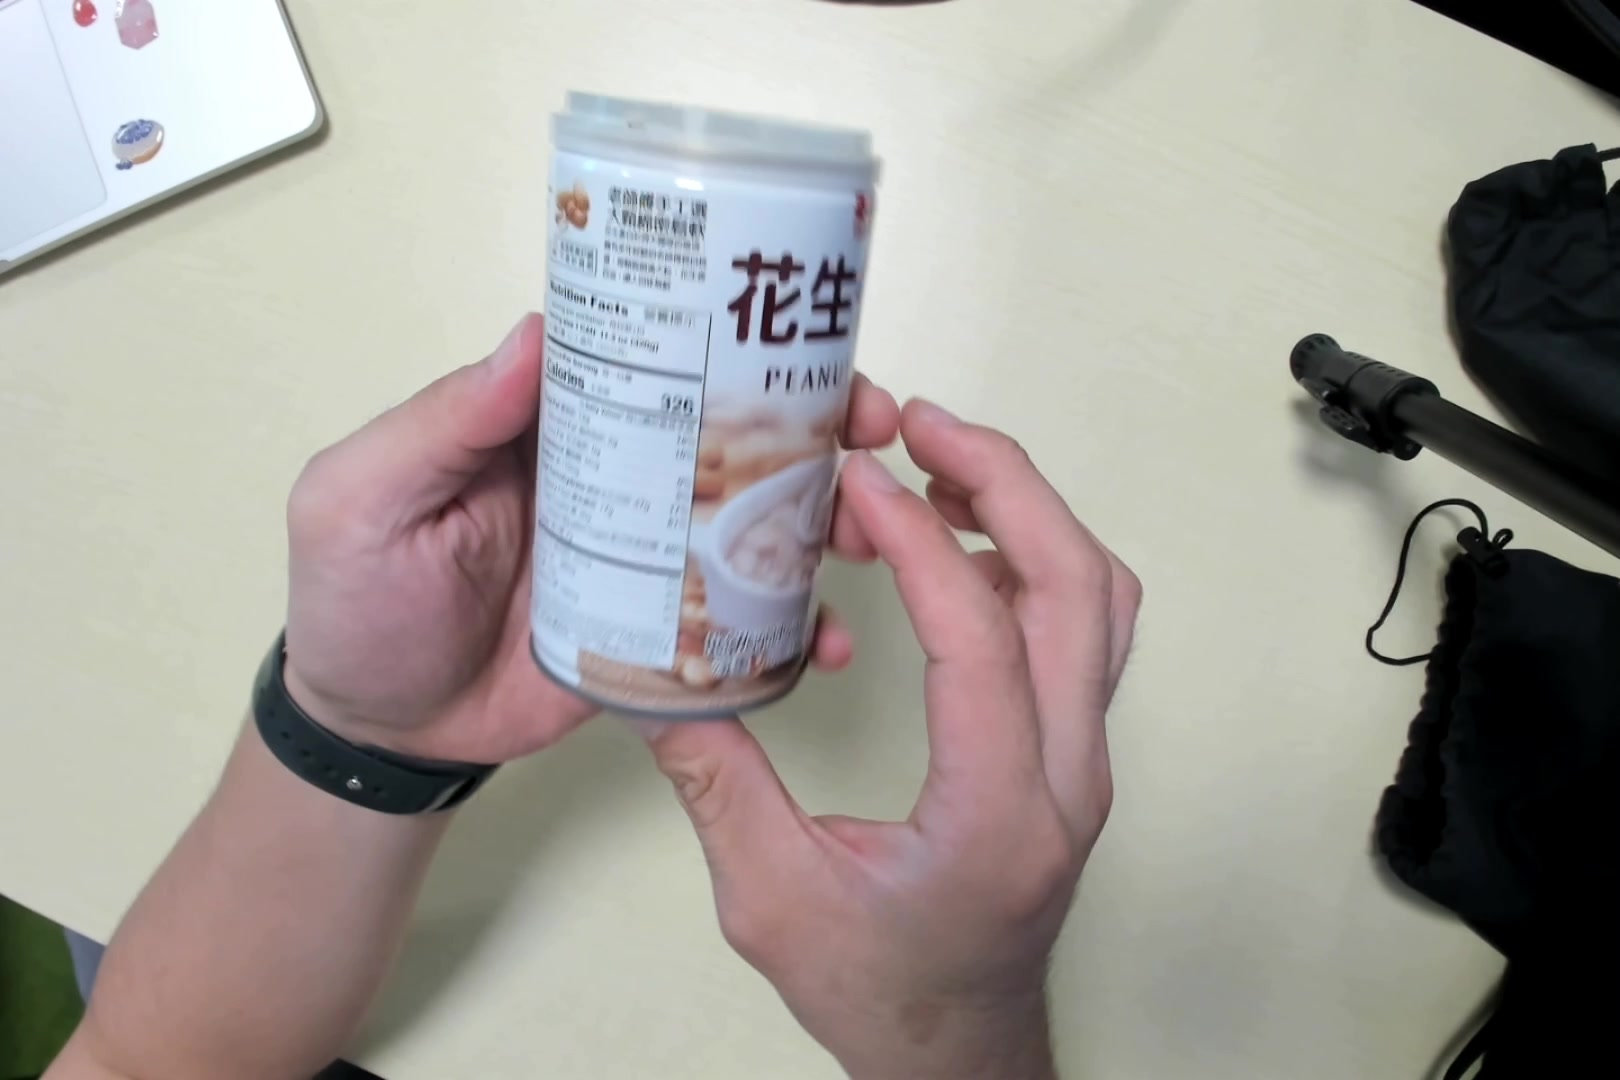InstantMeals_300-399g_NonHalal_NonHealthy: (530, 94, 875, 724)
